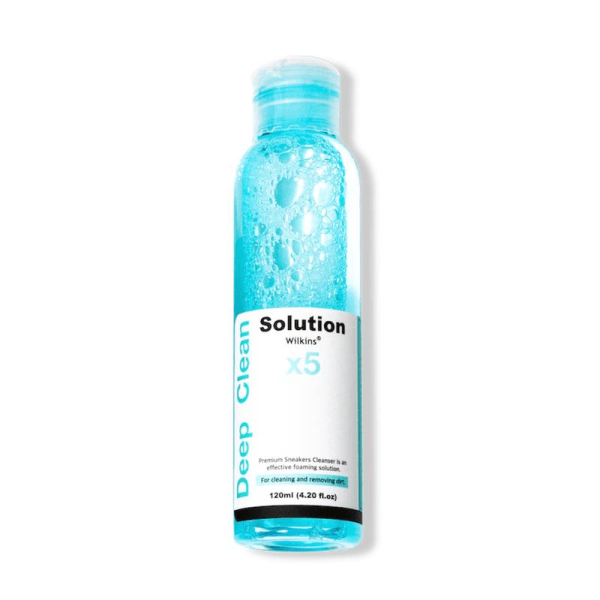Cleaning_solution: (226, 53, 373, 558)
